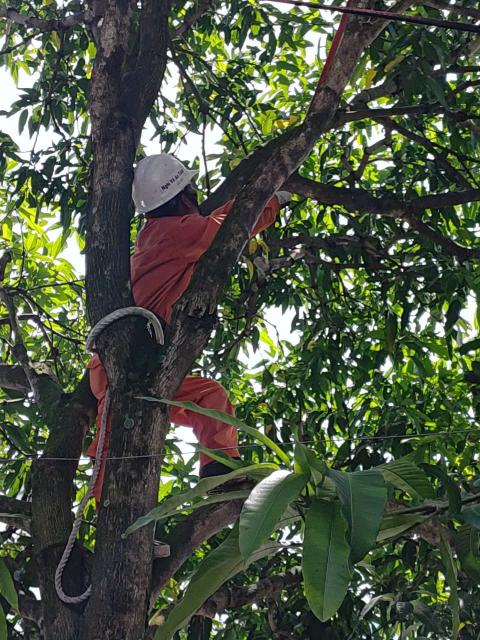helmet: (121, 144, 192, 217)
shoes: (189, 452, 268, 484)
